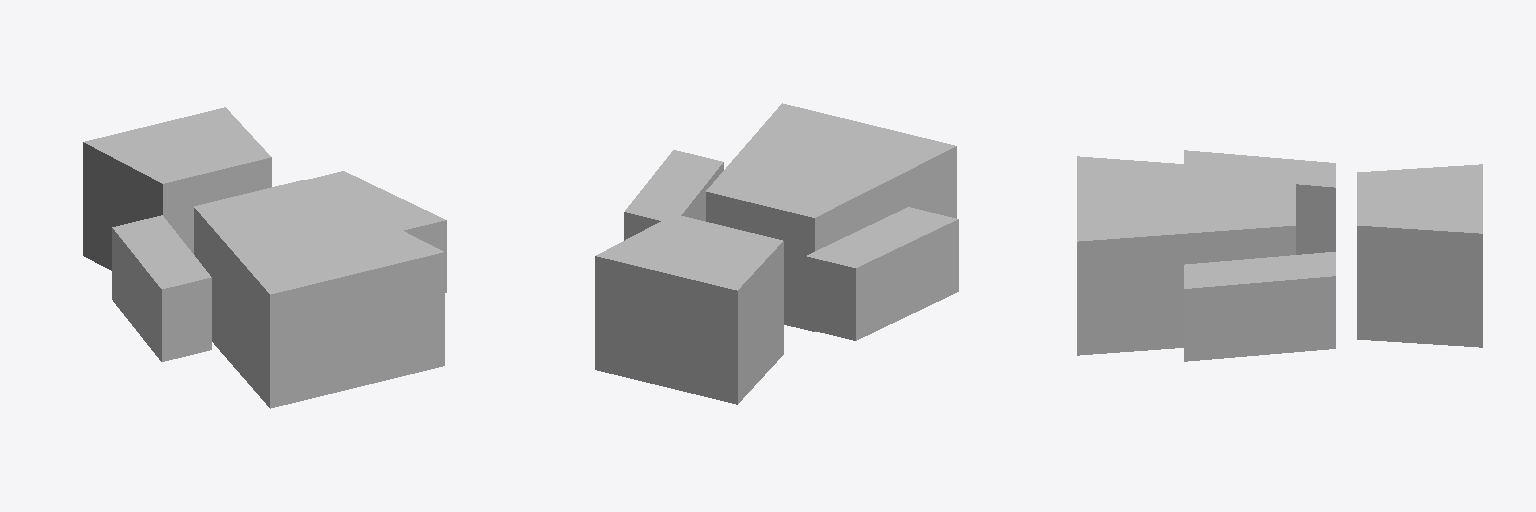
Rendered from player.obj.
3 views of the same model, side by side, from view 1: azimuth 30°, elevation 25°; view 2: azimuth 150°, elevation 25°; view 3: azimuth 270°, elevation 25° (orthographic).
Parts seen in each view (by area): view 1: body; view 2: body; view 3: body.
Part boxes in pixels (x1,y1,x2,y2): body: (83,107,446,408); body: (595,103,958,404); body: (1077,150,1482,361).
Size of the model in its own units: 5.23 by 2 by 6.46.